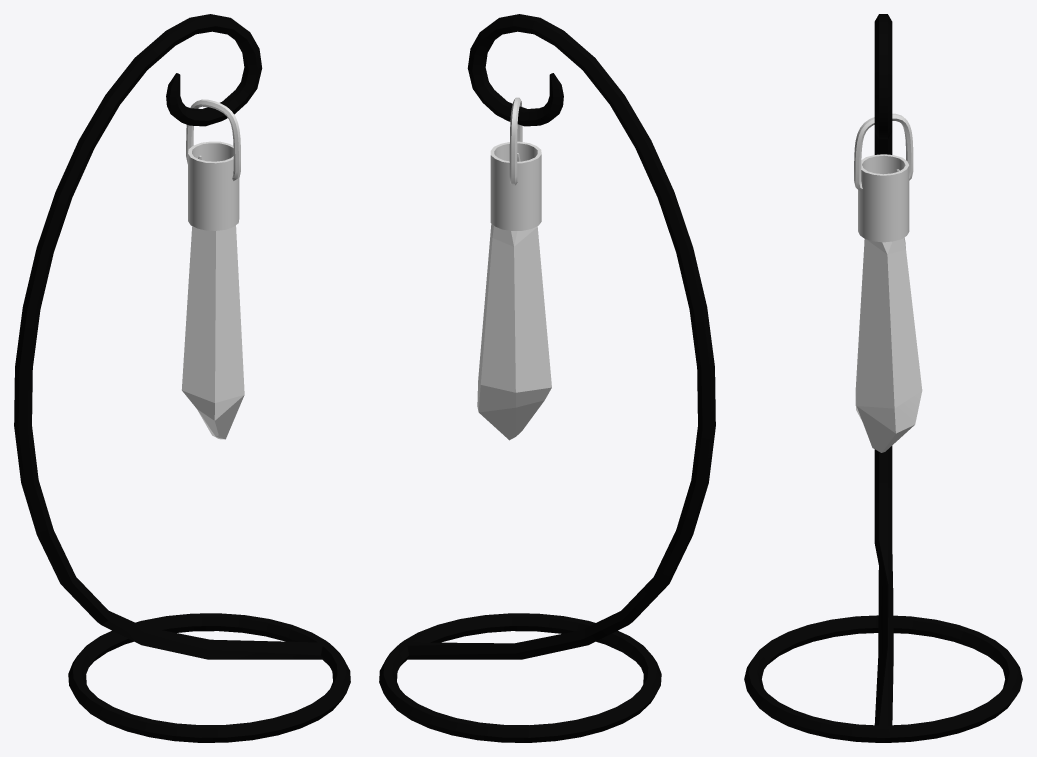
The model's file is Standing_Lamp.fbx.
3 renders of one model, left to right at view 1: azimuth 30°, elevation 25°; view 2: azimuth 150°, elevation 25°; view 3: azimuth 270°, elevation 25°, orthographic.
Parts seen in each view (by area): view 1: New.003, Crystal04.001, Crystal04; view 2: New.003, Crystal04.001, Crystal04; view 3: New.003, Crystal04.001, Crystal04.
Boxes of the visible parts, x1,y1,x2,y2 form: New.003: [14, 14, 350, 742]; Crystal04.001: [181, 225, 244, 439]; Crystal04: [186, 99, 240, 230]; New.003: [379, 14, 715, 742]; Crystal04.001: [477, 223, 551, 440]; Crystal04: [490, 97, 541, 230]; New.003: [744, 14, 1022, 742]; Crystal04.001: [855, 237, 922, 452]; Crystal04: [854, 113, 913, 242].
Size of the model in its own units: 55.72 by 113 by 43.3.
